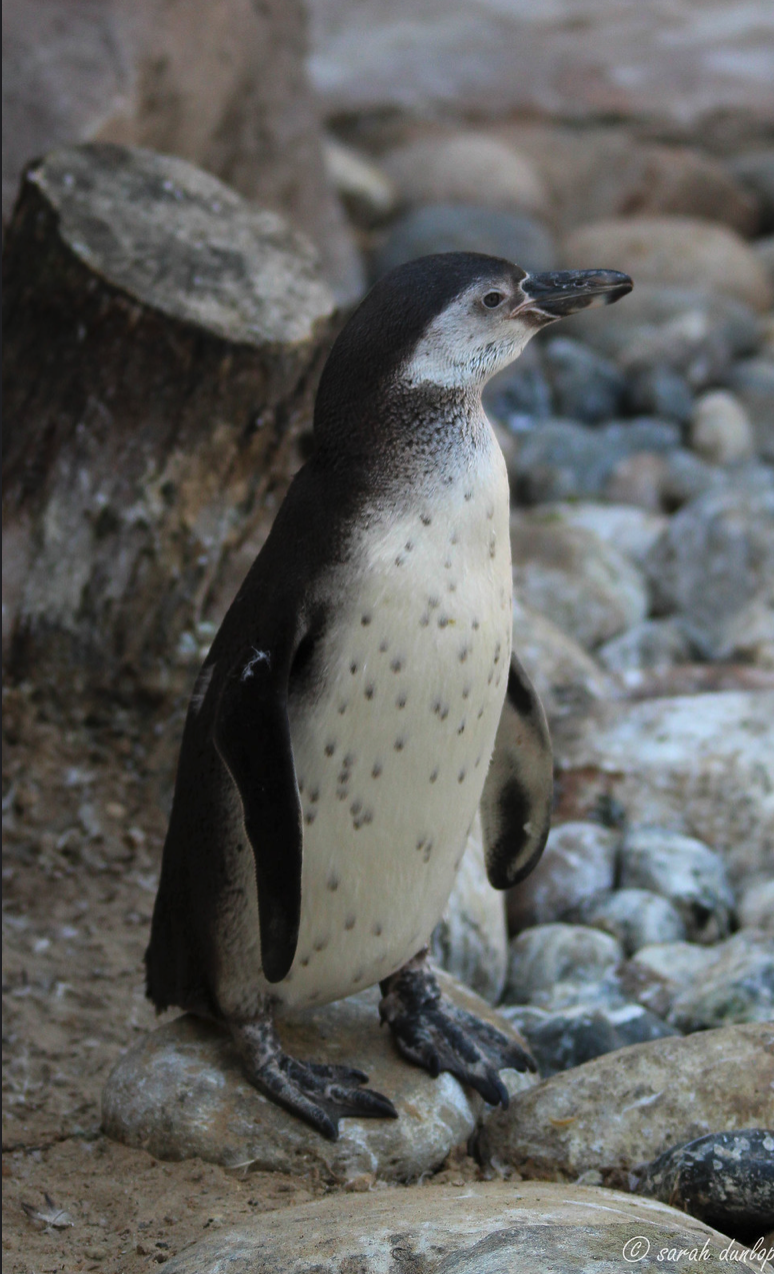penguin: (153, 245, 653, 1130)
